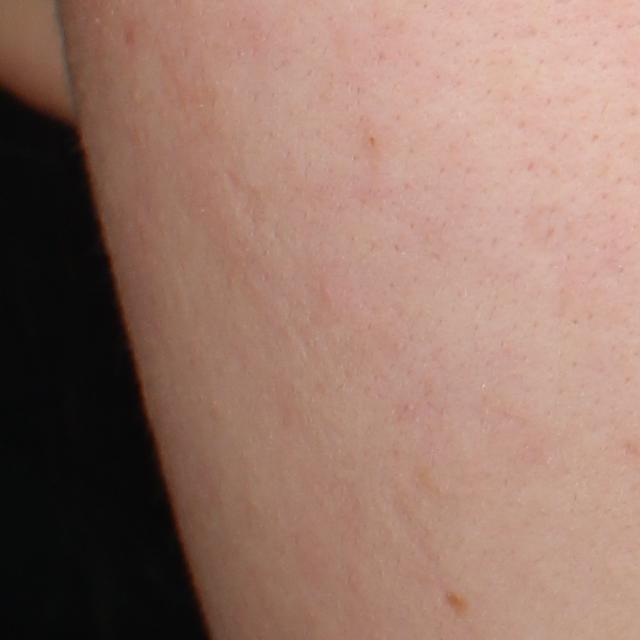atrophic_scar: (223, 167, 271, 241)
nevus: (443, 588, 471, 616)
